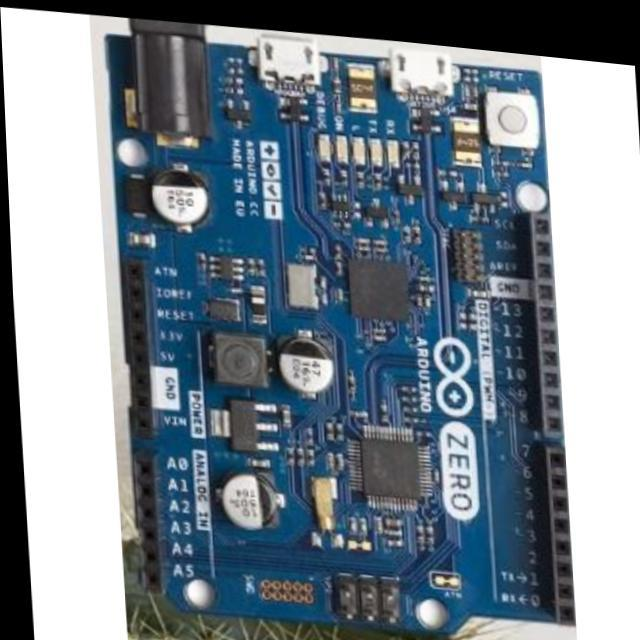Arduino-Zero: (109, 22, 572, 634)
